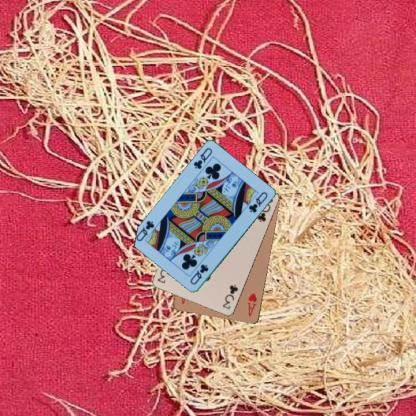3c: (220, 282, 239, 310)
Ah: (245, 289, 258, 318)
Qc: (188, 262, 210, 286), (191, 146, 213, 170)
